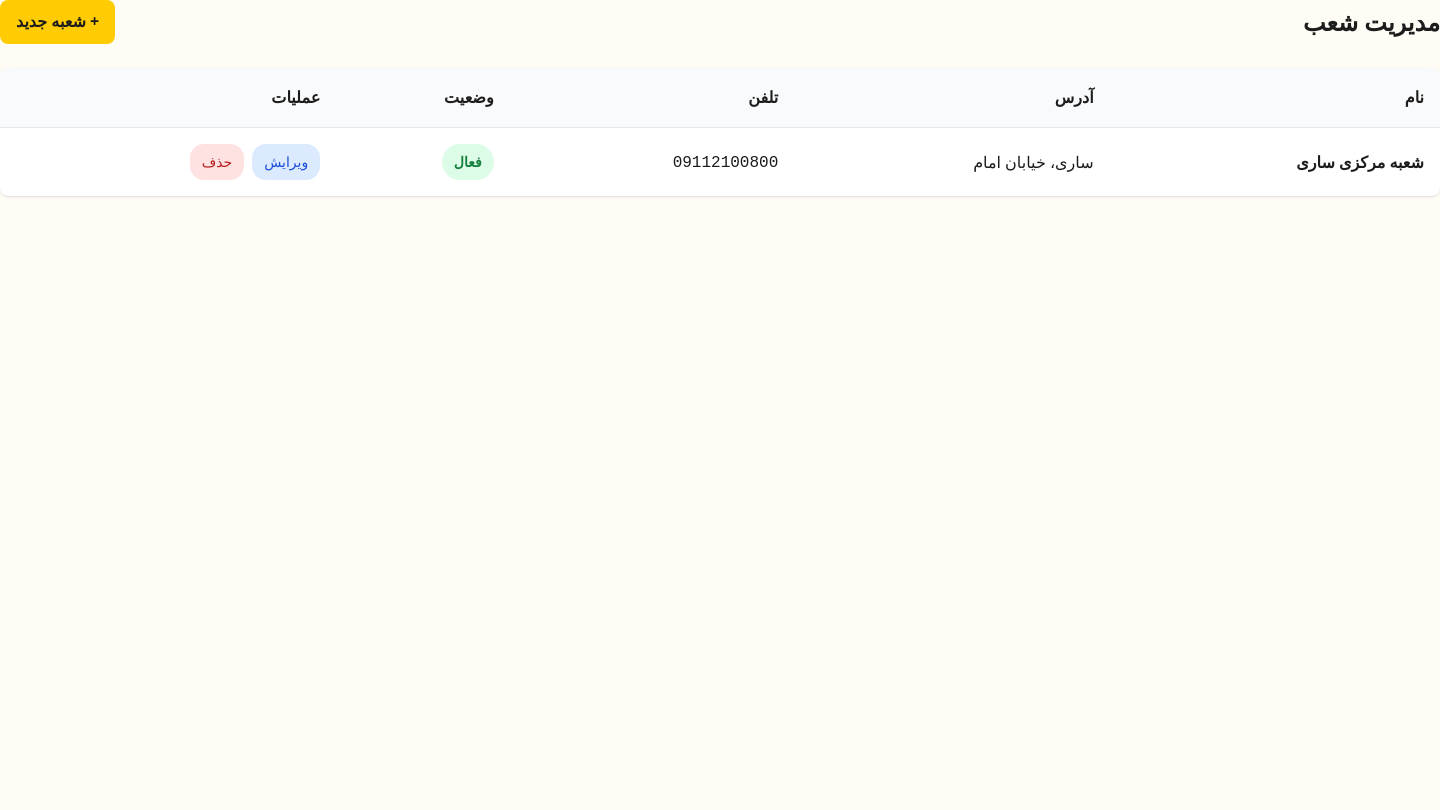
it: deletes after confirming in the accessible dialog
Click the button "حذف".
click(217, 162)  # box [190, 144, 244, 180]
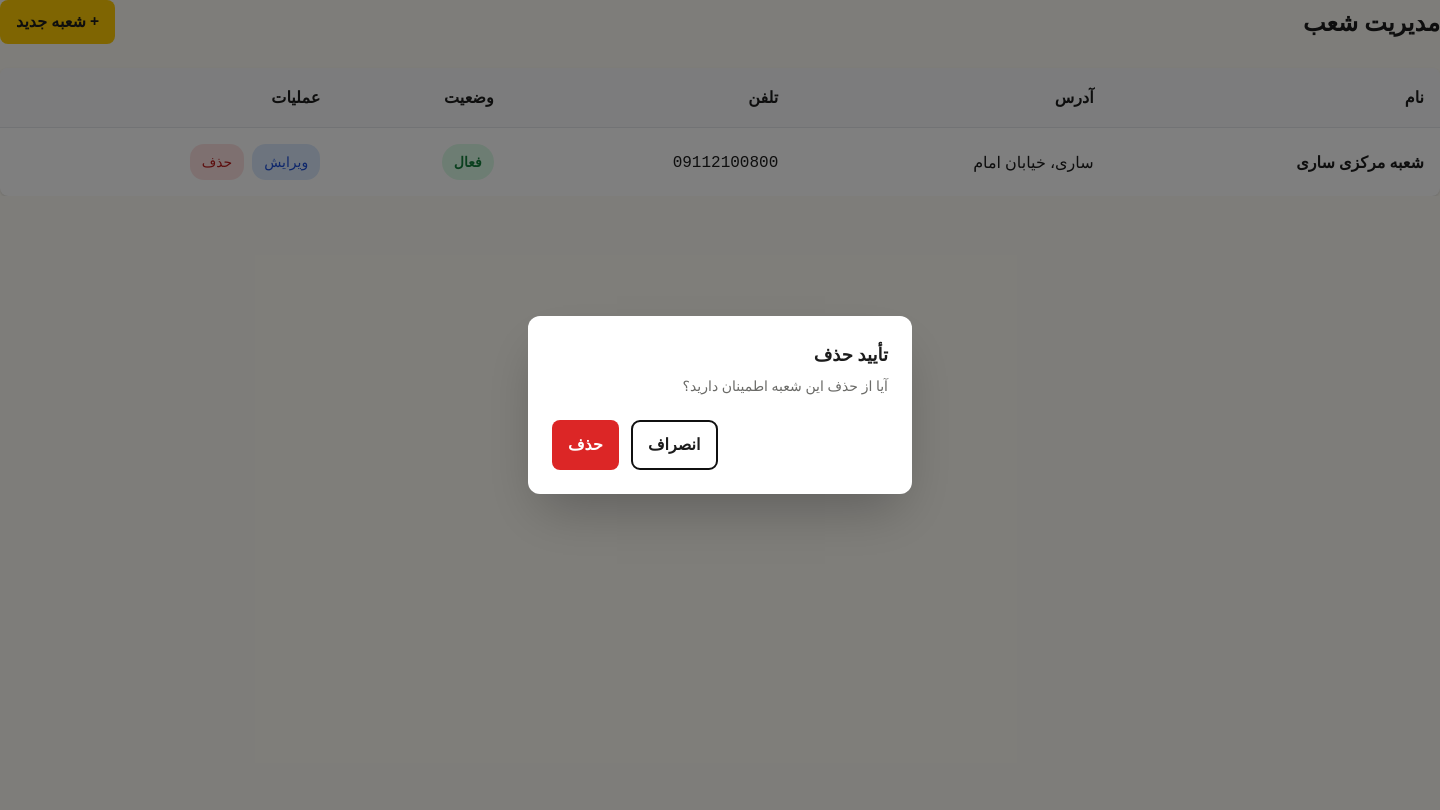
Expected: the dialog shows "آیا از حذف این شعبه اطمینان دارید؟", [683, 376, 888, 395]
Click the button "حذف".
click(585, 445)  # box [552, 420, 619, 470]
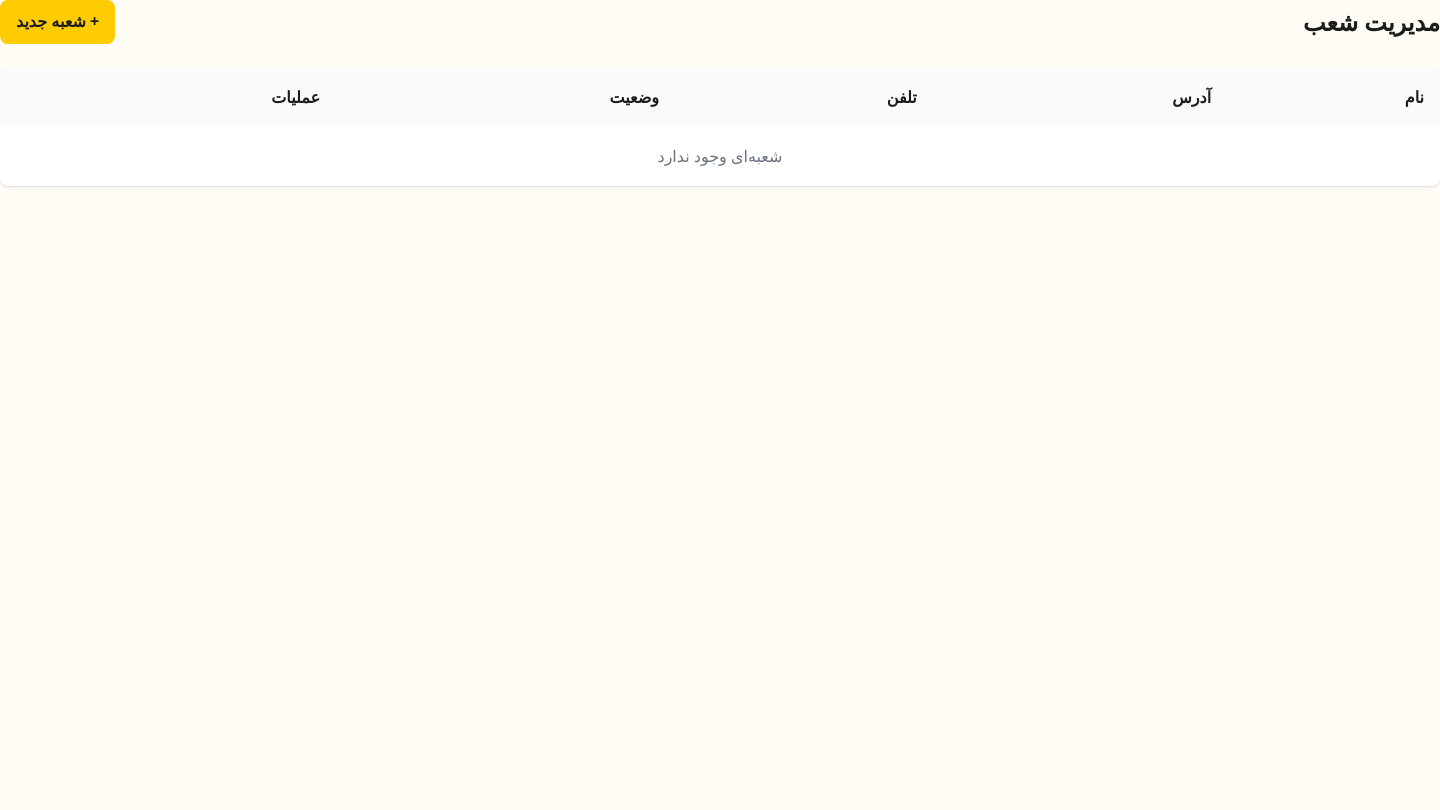
Expected: the text "شعبه‌ای وجود ندارد" is shown, [658, 145, 782, 167]
Expected: the dialog is gone
